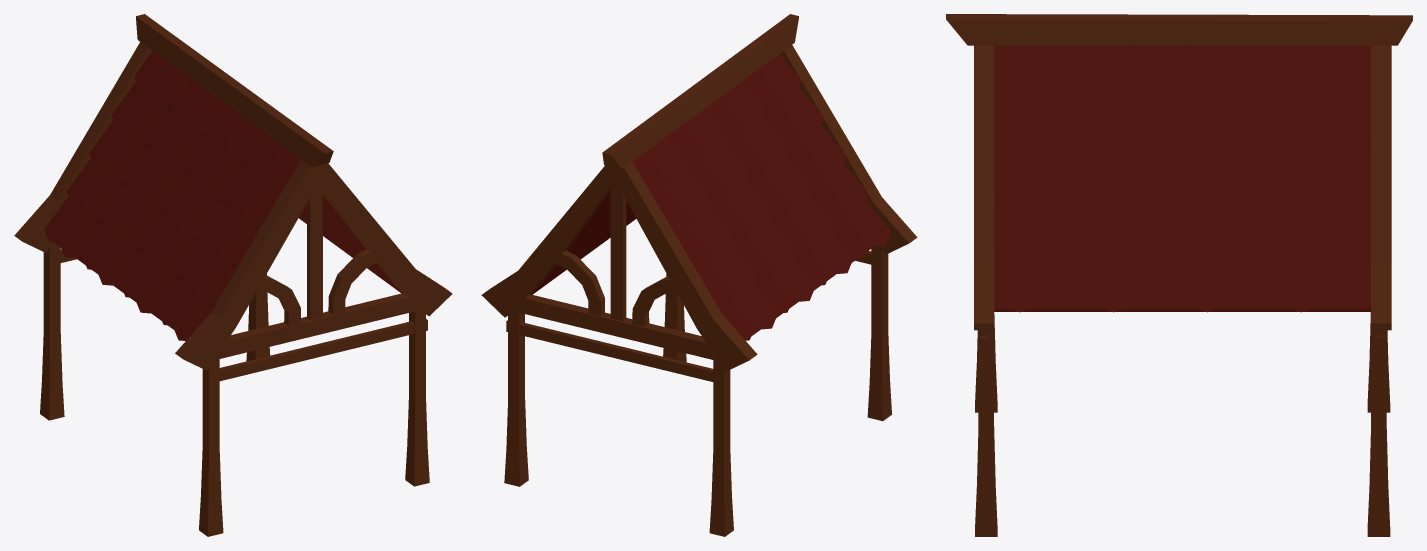
The model's file is Village_Gazebo.glb.
3 views of the same model, side by side, from view 1: azimuth 30°, elevation 25°; view 2: azimuth 150°, elevation 25°; view 3: azimuth 270°, elevation 25° (orthographic). The views are drawn at different scales.
Visible parts, largest first — view 1: Gazebo; view 2: Gazebo; view 3: Gazebo.
Boxes of the visible parts, box(x1,y1,x2,y2) form: Gazebo: box(14, 14, 452, 536); Gazebo: box(481, 14, 917, 536); Gazebo: box(946, 14, 1412, 536).
Size of the model in its own units: 104 by 135 by 126.
